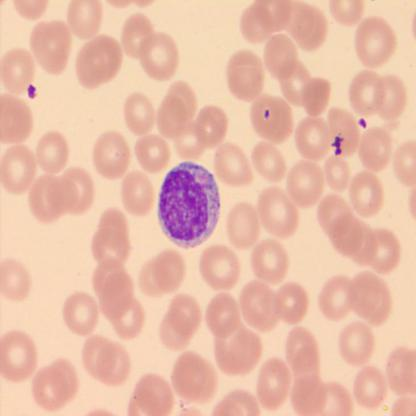Myelocyte: (159, 159, 218, 244)
